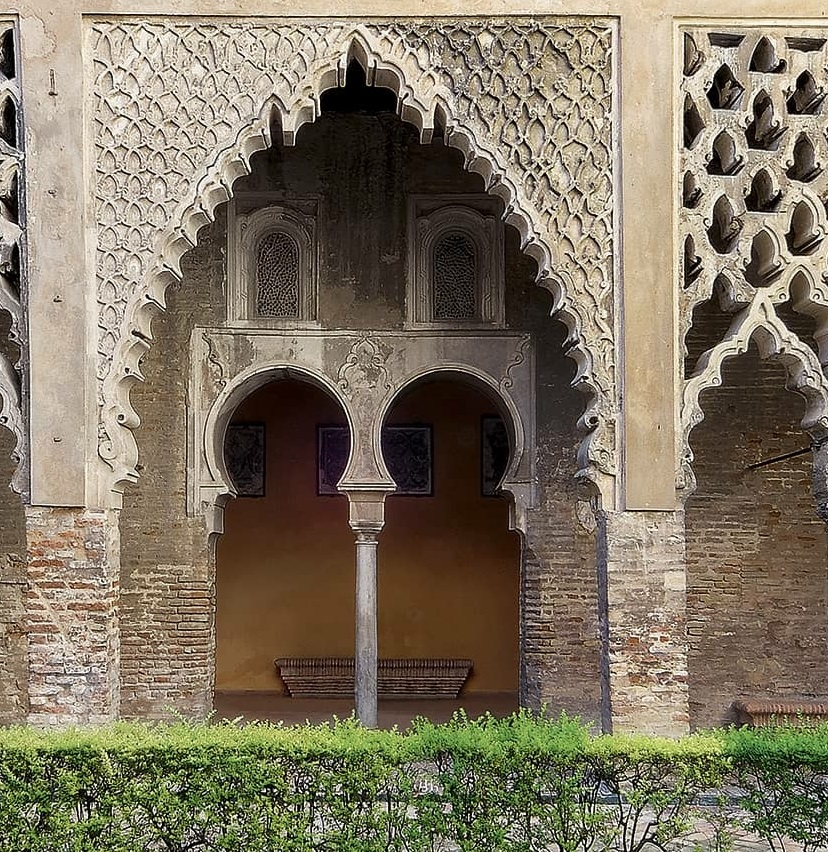arco-herradura: (199, 352, 367, 518), (368, 352, 526, 523)
arco-lobulado: (685, 317, 828, 496)
